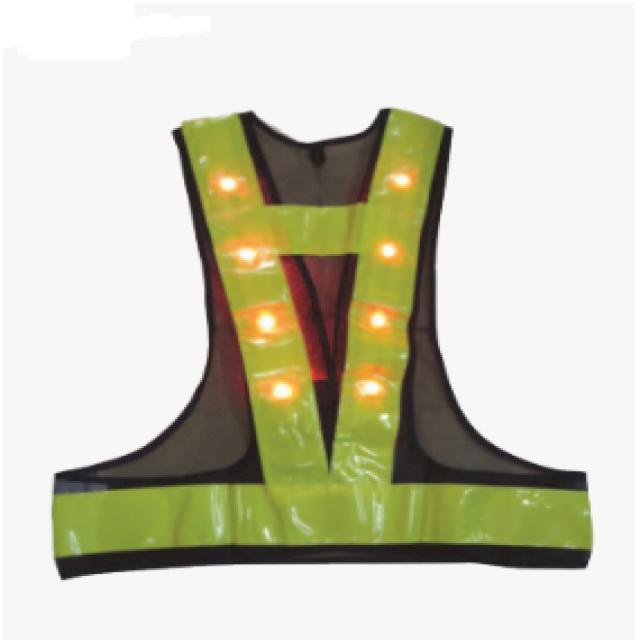Reflective-Jacket: (0, 88, 631, 592)
